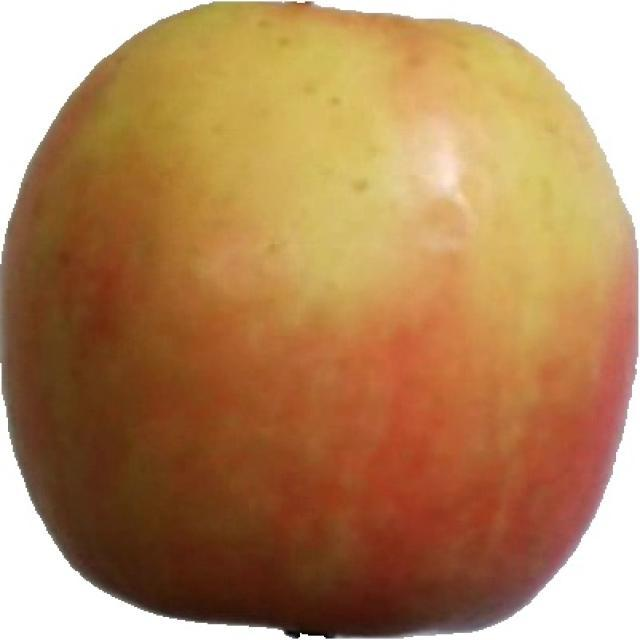apple: (4, 3, 636, 635)
